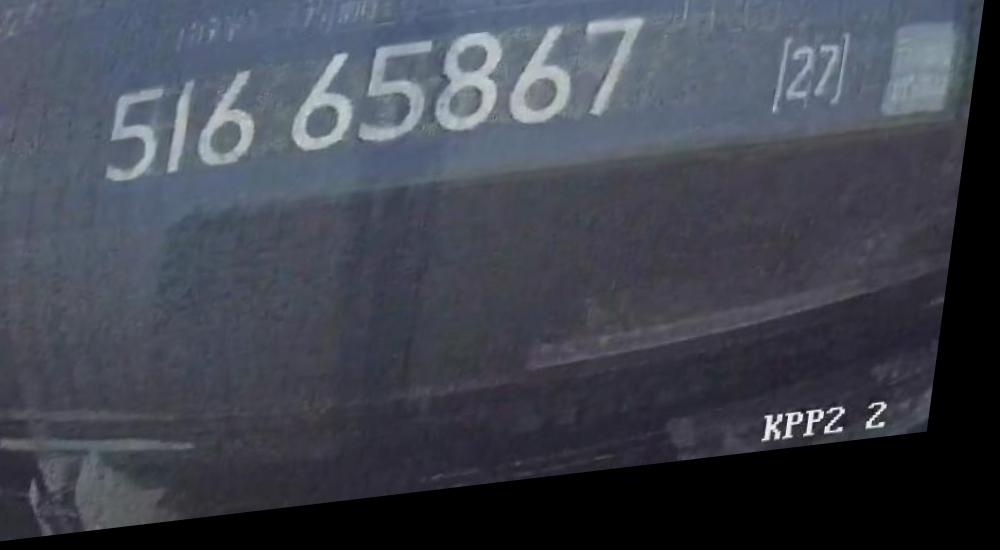Wagon-number: (99, 17, 656, 192)
